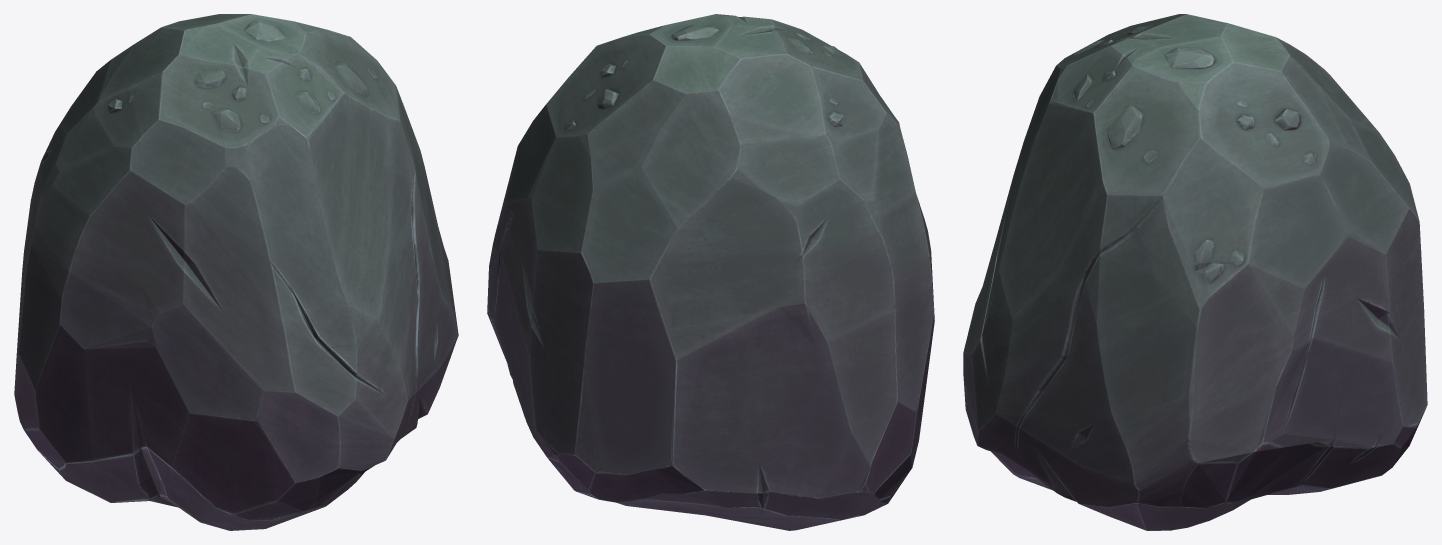
The model's file is ROCK_ATTACK.fbx.
The picture shows the model from 3 angles, left to right: view 1: azimuth 30°, elevation 25°; view 2: azimuth 150°, elevation 25°; view 3: azimuth 270°, elevation 25°; orthographic projection. The views are drawn at different scales.
Parts seen in each view (by area): view 1: Group34070; view 2: Group34070; view 3: Group34070.
Part boxes in pixels (x1,y1,x2,y2): Group34070: (14, 14, 458, 530); Group34070: (487, 14, 934, 530); Group34070: (963, 14, 1427, 530).
Bounding box in the file's own units: 12.33 × 12.66 × 11.6.
